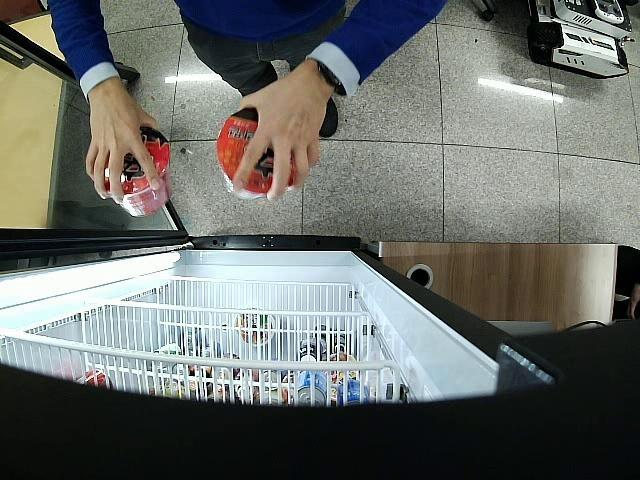01_ShinRamen_L: (217, 106, 295, 200), (103, 125, 174, 217)
